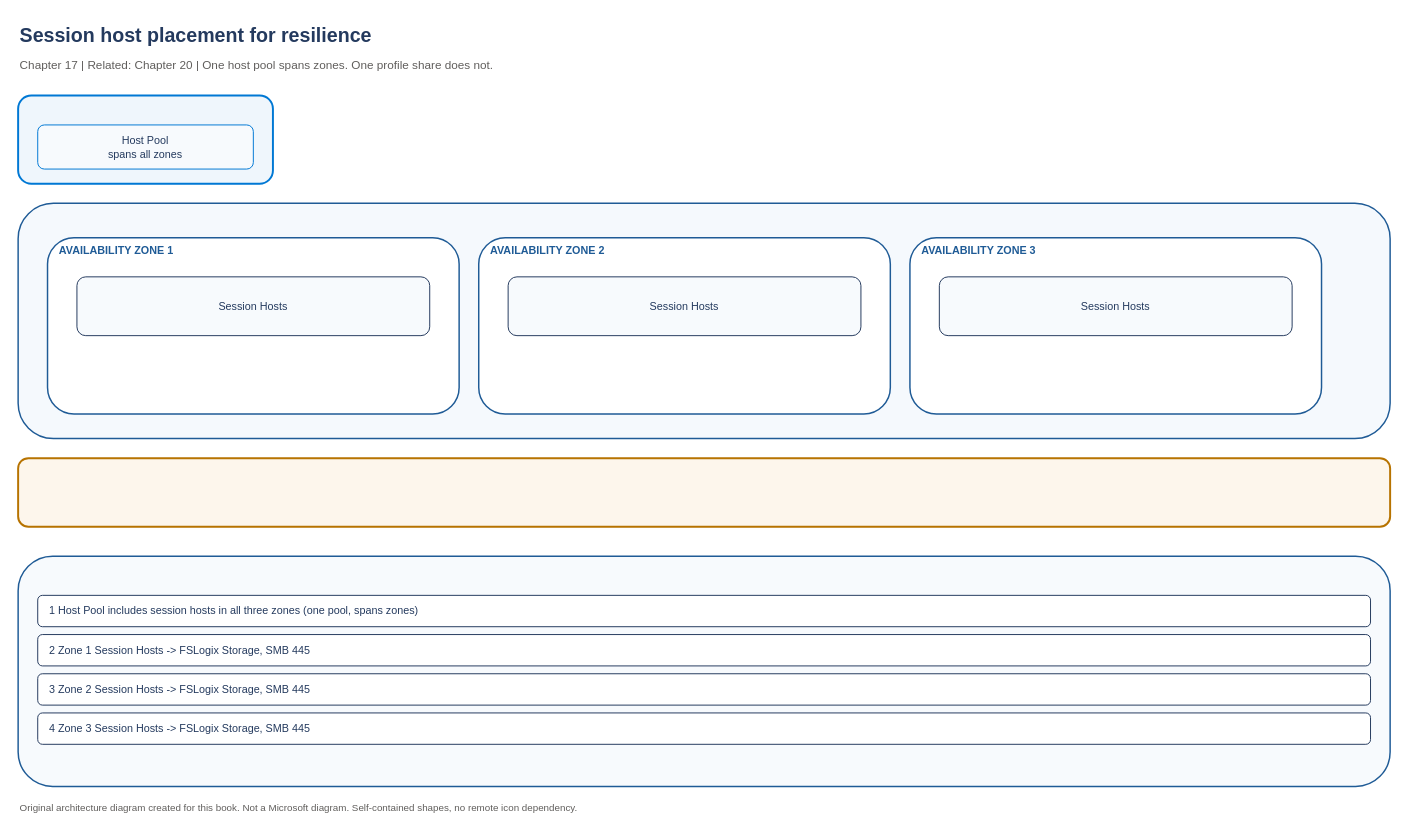
This 1407x832 diagram has some shape labels left out. Each missing label, with the box of its shape:
AZURE REGION: (17, 202, 1390, 439)
FSLOGIX STORAGE - ONE SHARE, NOT ZONE-REDUNDANT ACROSS ALL THREE UNLESS ZRS: (17, 457, 1391, 527)
MICROSOFT MANAGED: (17, 94, 273, 184)
RELATIONSHIPS: (17, 555, 1390, 787)
